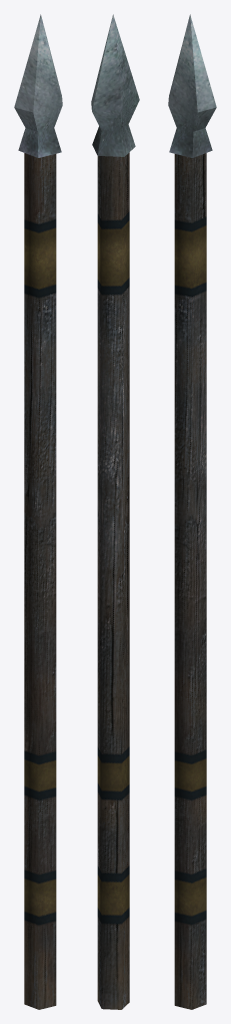
Rendered from Trhowing_Spear.FBX.
The picture shows the model from 3 angles, left to right: view 1: azimuth 30°, elevation 25°; view 2: azimuth 210°, elevation 25°; view 3: azimuth 330°, elevation 25°; orthographic projection.
Visible parts, largest first — view 1: Trhowing_Spear; view 2: Trhowing_Spear; view 3: Trhowing_Spear.
Part boxes in pixels (bbox=[...]): Trhowing_Spear: bbox=[14, 14, 62, 1009]; Trhowing_Spear: bbox=[91, 14, 139, 1009]; Trhowing_Spear: bbox=[168, 14, 216, 1009].
Bounding box in the file's own units: 9.48 × 187 × 7.08.
